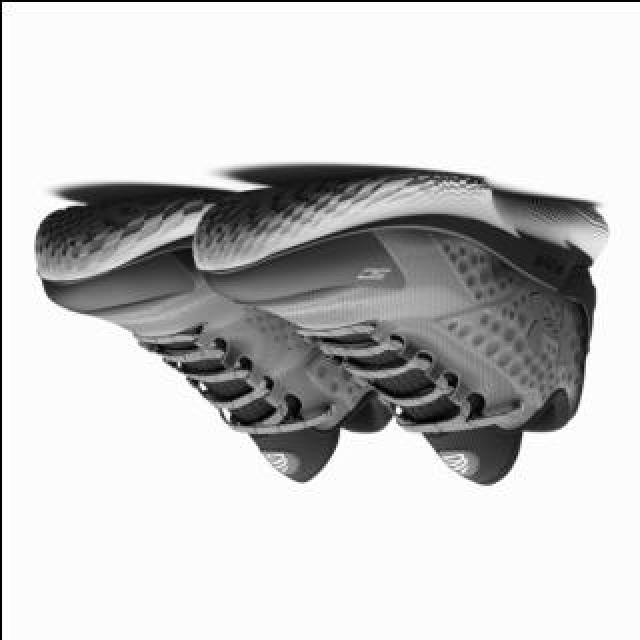shoe: (194, 172, 606, 484), (32, 194, 428, 480)
